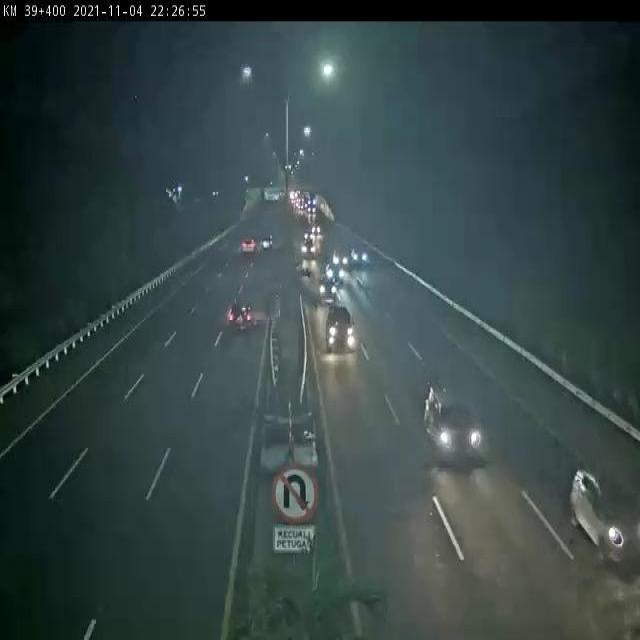car: (422, 383, 484, 460), (324, 304, 356, 353), (227, 300, 258, 331), (317, 276, 338, 303), (324, 262, 346, 286), (331, 244, 351, 268), (350, 240, 369, 264)
